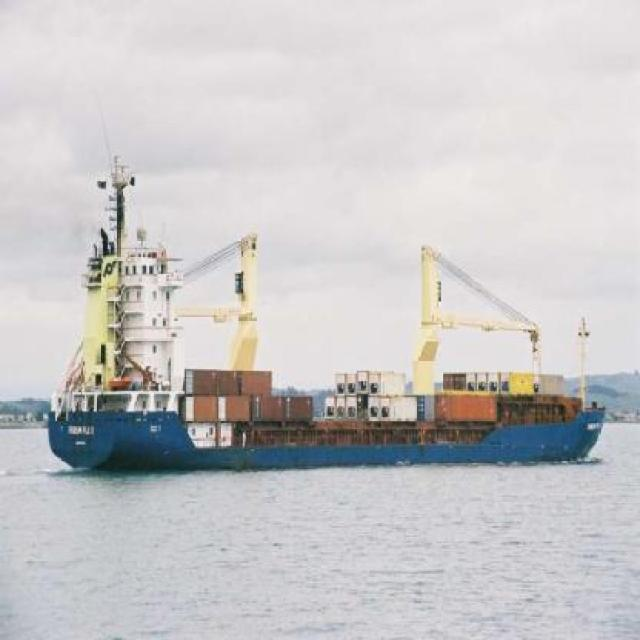ship: (1, 180, 614, 474)
